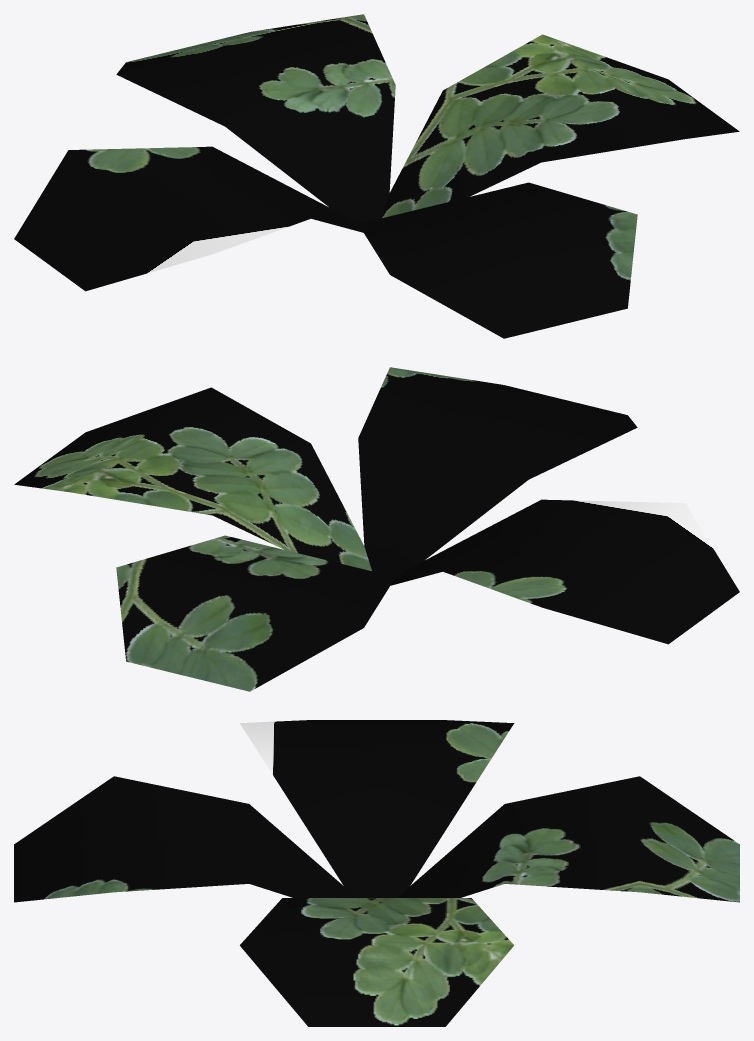
The model's file is plant.fbx.
The picture shows the model from 3 angles, top to bottom: view 1: azimuth 30°, elevation 25°; view 2: azimuth 150°, elevation 25°; view 3: azimuth 270°, elevation 25°; orthographic projection. The views are drawn at different scales.
Visible parts, largest first — view 1: Plane.003; view 2: Plane.003; view 3: Plane.003.
Boxes of the visible parts, <box> form: Plane.003: <box>14,14,739,338</box>; Plane.003: <box>14,367,739,691</box>; Plane.003: <box>14,720,739,1026</box>.
Bounding box in the file's own units: 196 × 24.62 × 196.
